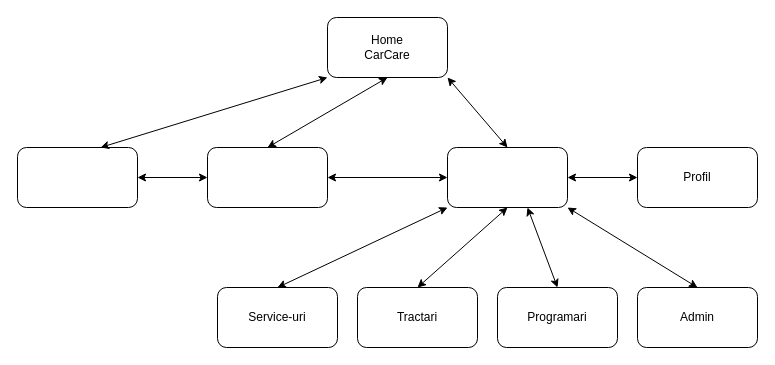
This 775x365 diagram has some shape labels left out. The centre of each missing label's shape, as x and y in pixels:
Homepage: the point at 507,177
Login: the point at 267,177
Register: the point at 77,177
